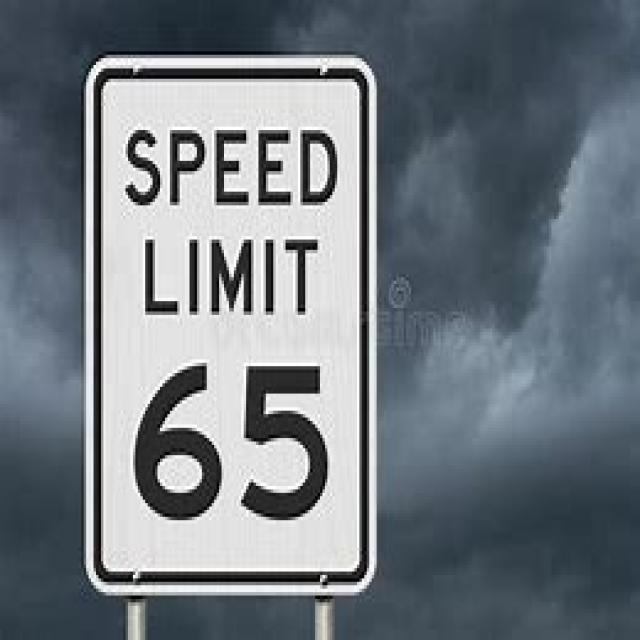speedLimit65: (82, 60, 376, 597)
